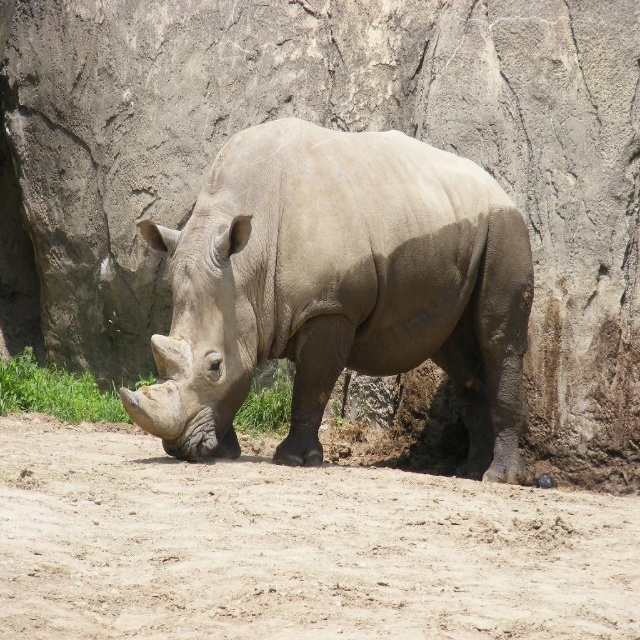Rhinoceros: (114, 114, 533, 491)
